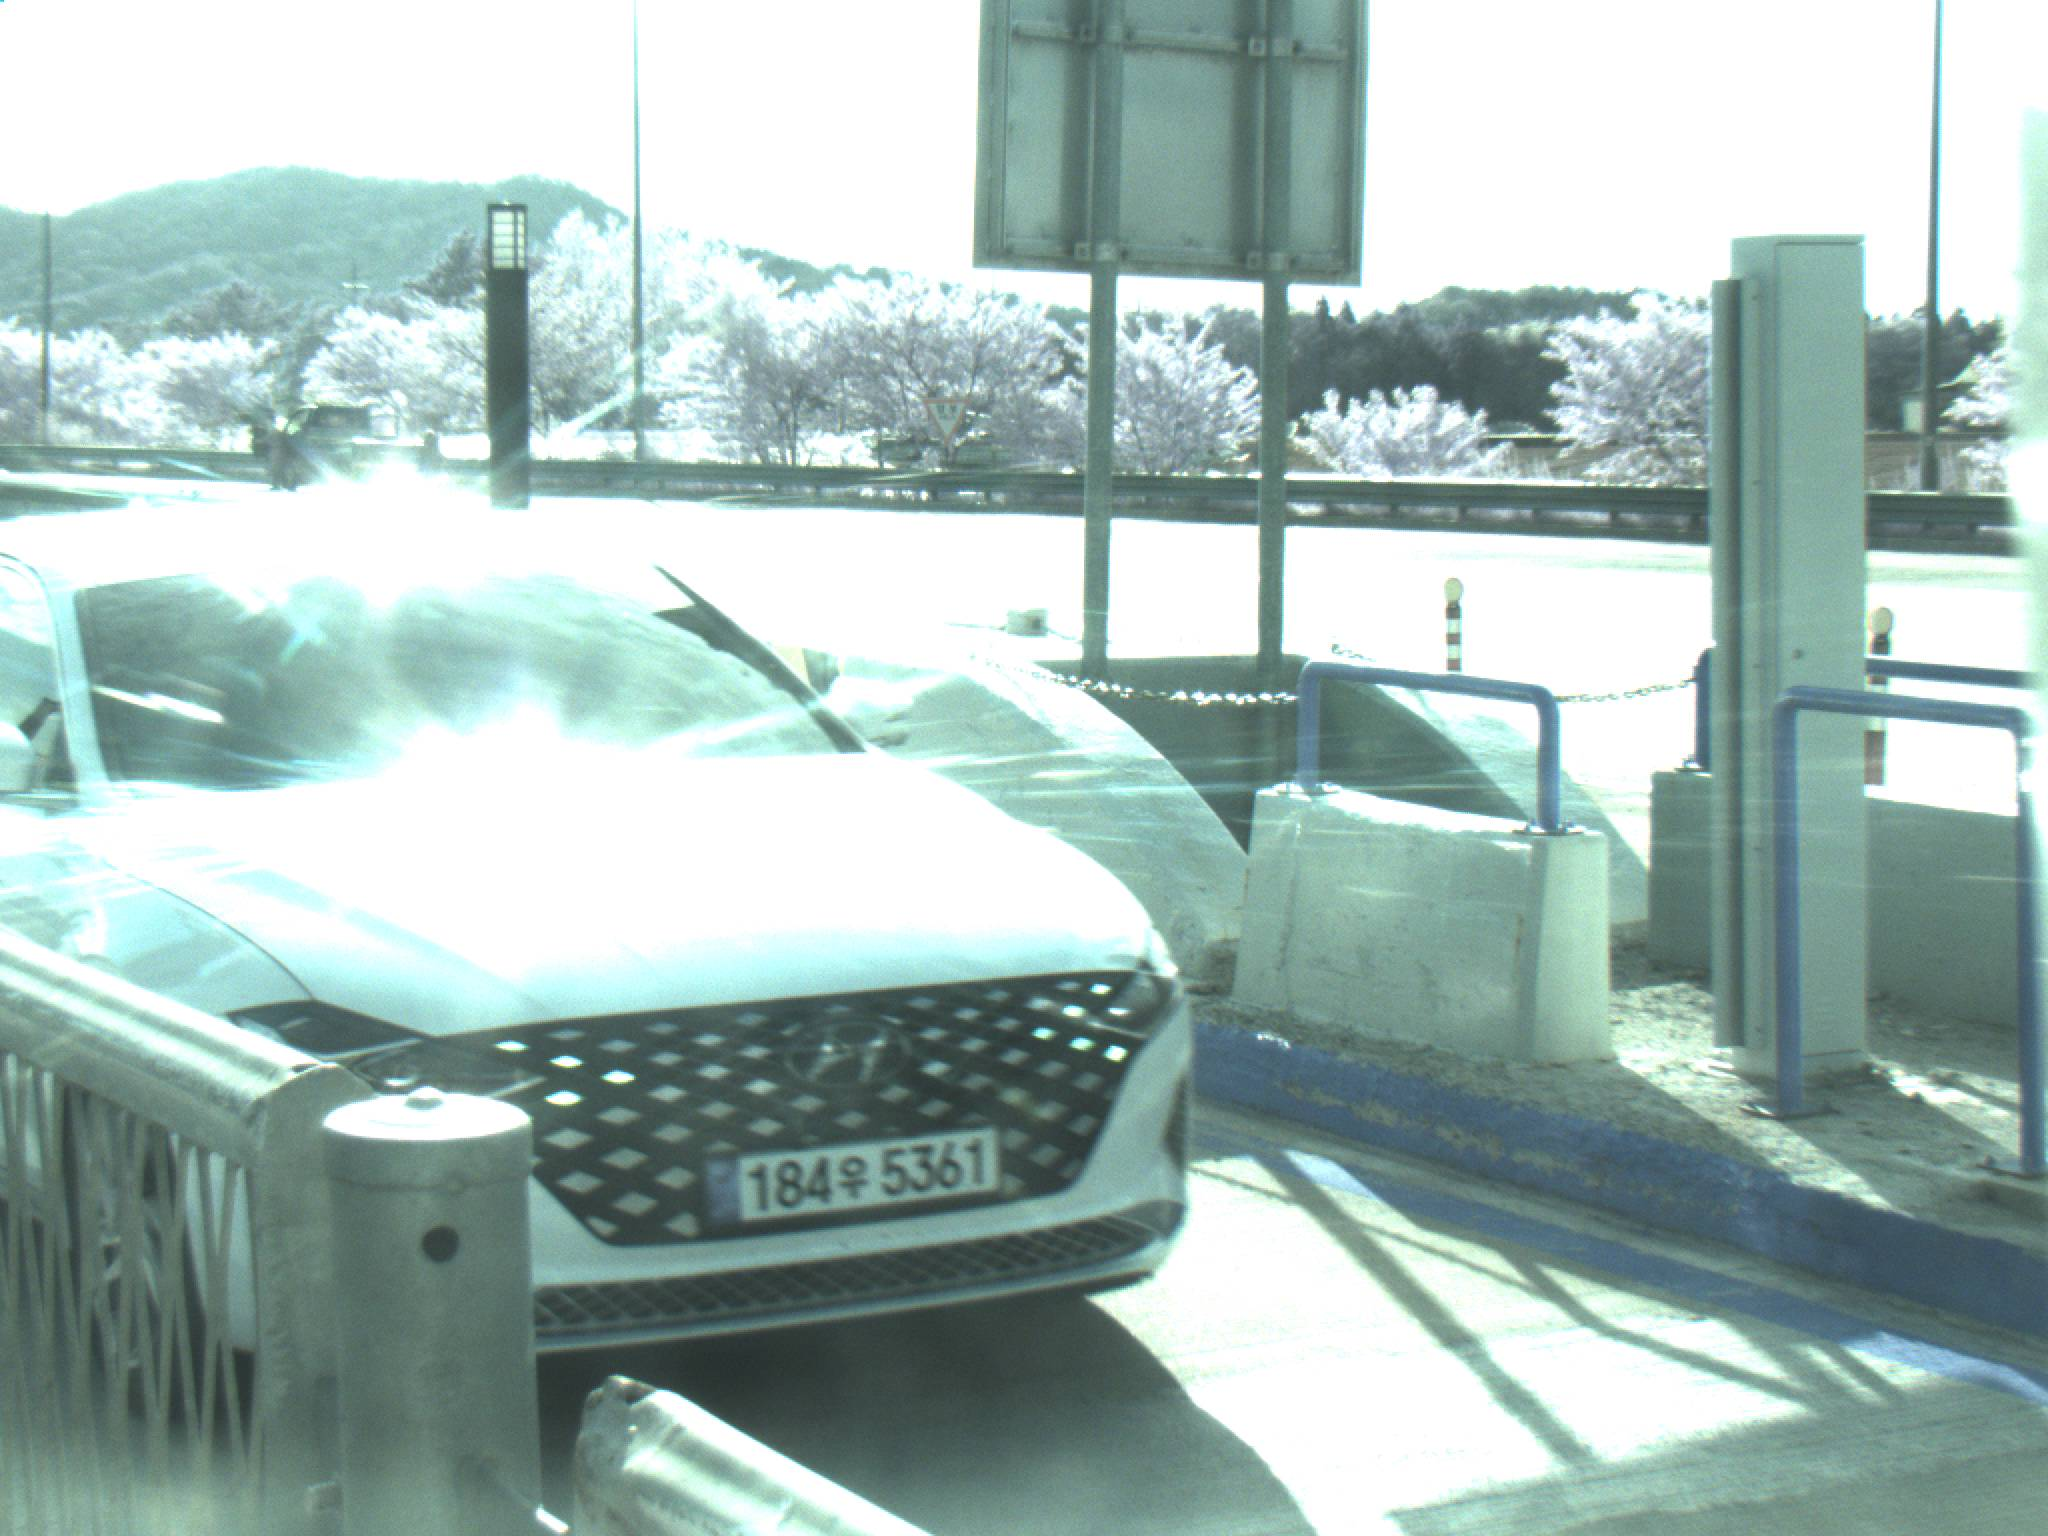car: (1, 498, 1204, 1436)
plate: (693, 1126, 1006, 1228)
